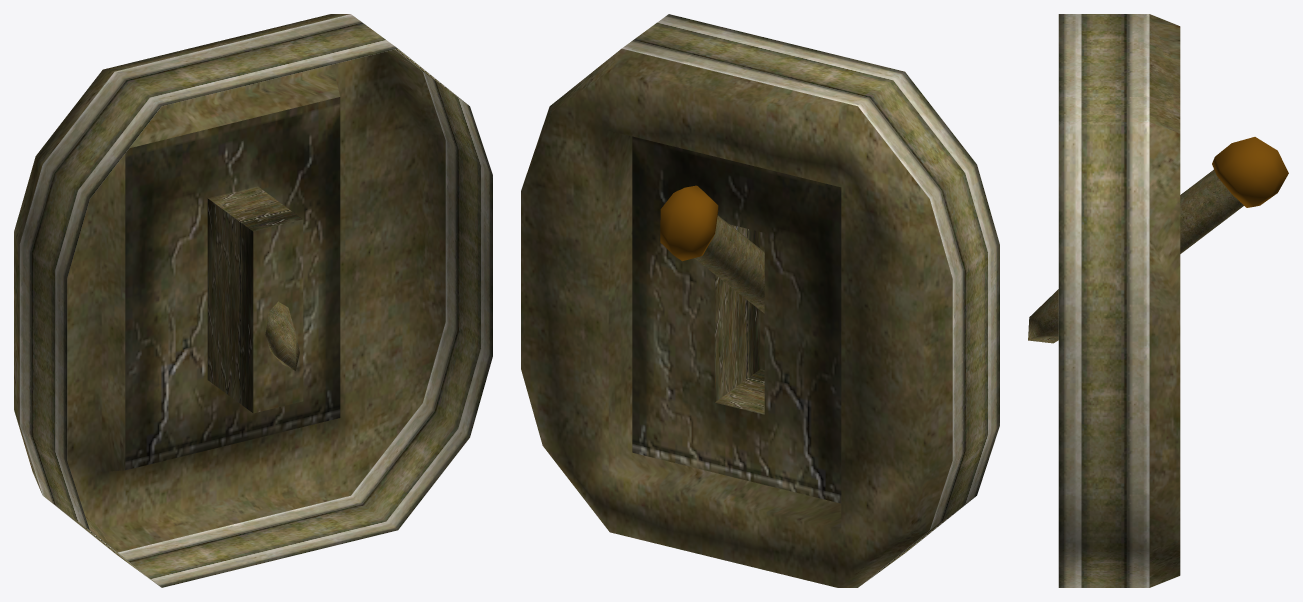
Rendered from INST_SM_SWITCH_UP.fbx.
3 renders of one model, left to right at view 1: azimuth 30°, elevation 25°; view 2: azimuth 150°, elevation 25°; view 3: azimuth 270°, elevation 25°, orthographic. The views are drawn at different scales.
Visible parts, largest first — view 1: INST_SM_SWITCH_UP; view 2: INST_SM_SWITCH_UP; view 3: INST_SM_SWITCH_UP.
Boxes of the visible parts, x1,y1,x2,y2 form: INST_SM_SWITCH_UP: (14,14,492,587); INST_SM_SWITCH_UP: (521,14,999,587); INST_SM_SWITCH_UP: (1028,14,1288,587).
Size of the model in its own units: 5656 by 6114 by 3122.
Materials: 4 (4 with a texture image).
